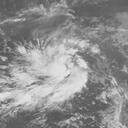cyclone: (8, 43, 85, 97)
